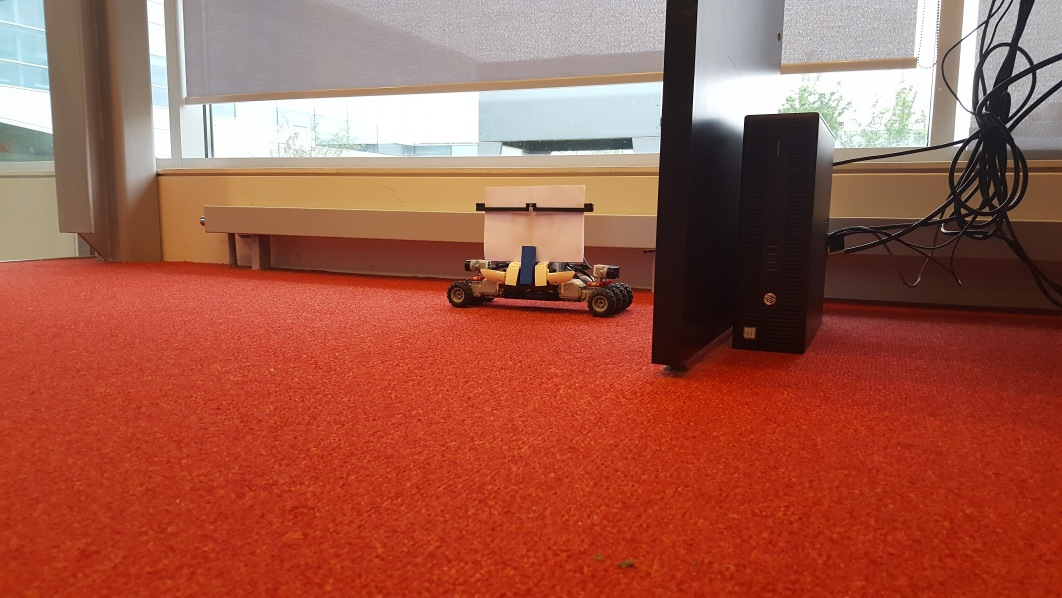car: (446, 181, 635, 318)
